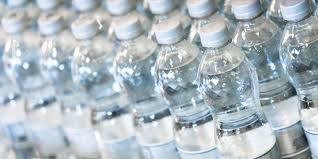Plastic bottle: (2, 1, 318, 159)
